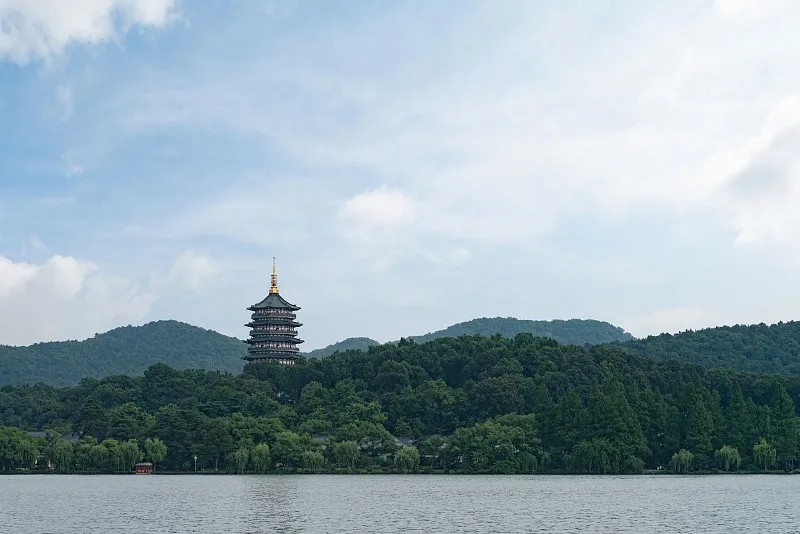Leifeng: (241, 257, 305, 371)
